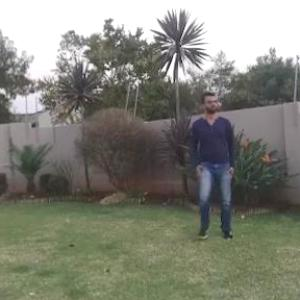follow: (183, 77, 245, 263)
